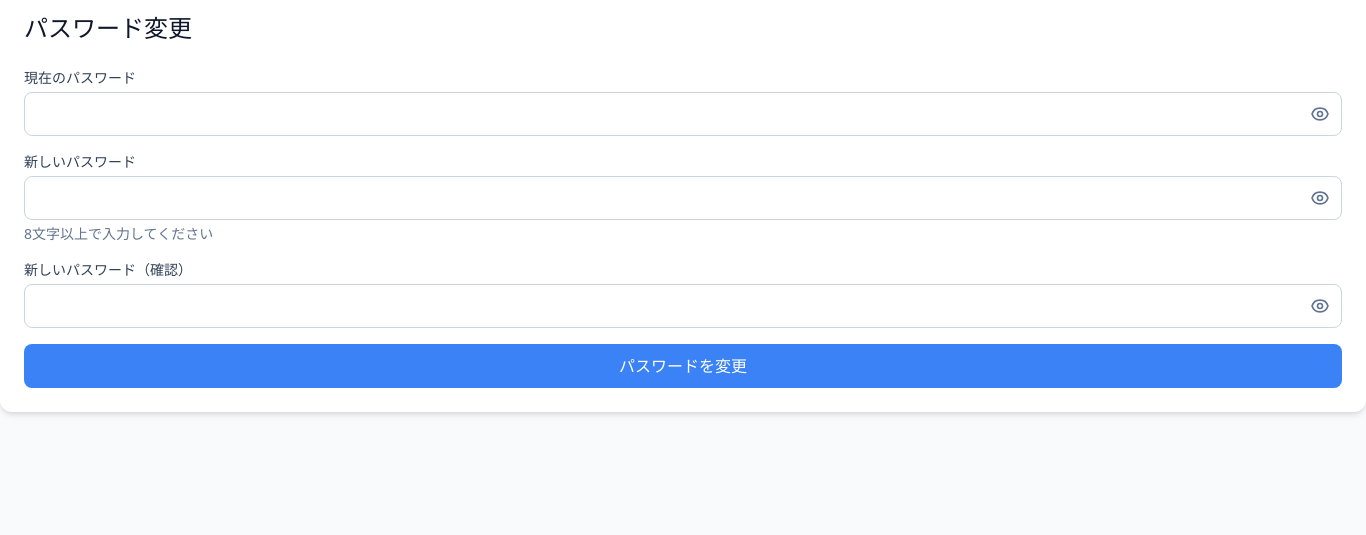
Test: PasswordChangeForm › Form Submission › should show error message on API error
Step 1. Type "wrongpass" into the password field labelled "現在のパスワード" → x=683, y=114, box 24,92 -> 1342,136
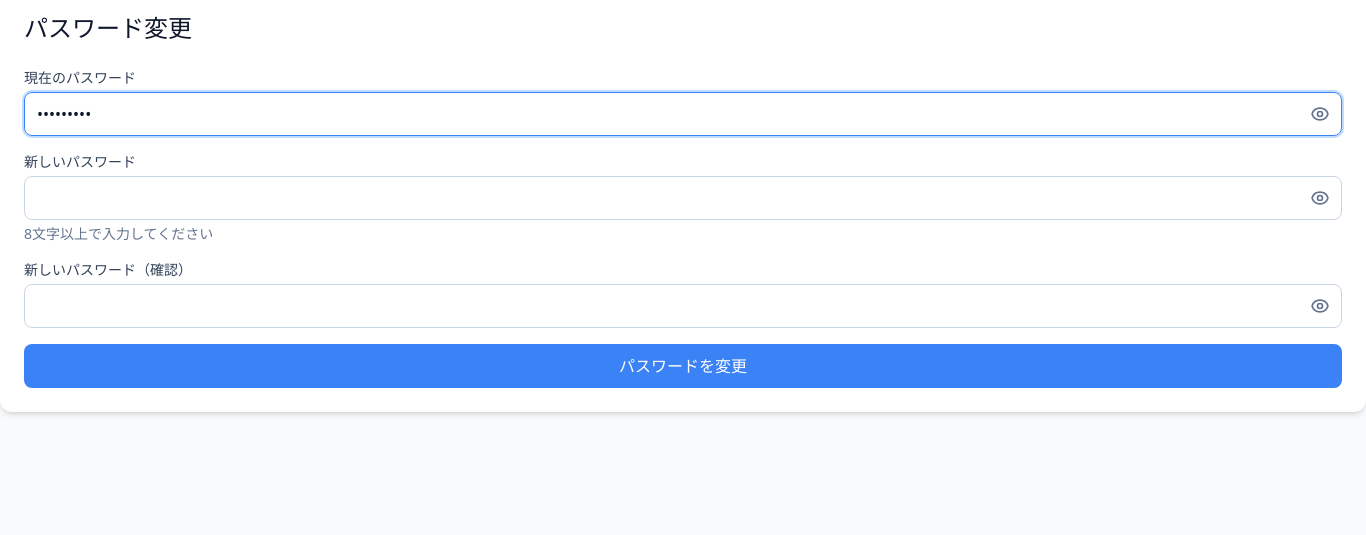
Step 2. Type "newpass123" into the password field labelled "新しいパスワード" → x=683, y=198, box 24,176 -> 1342,220
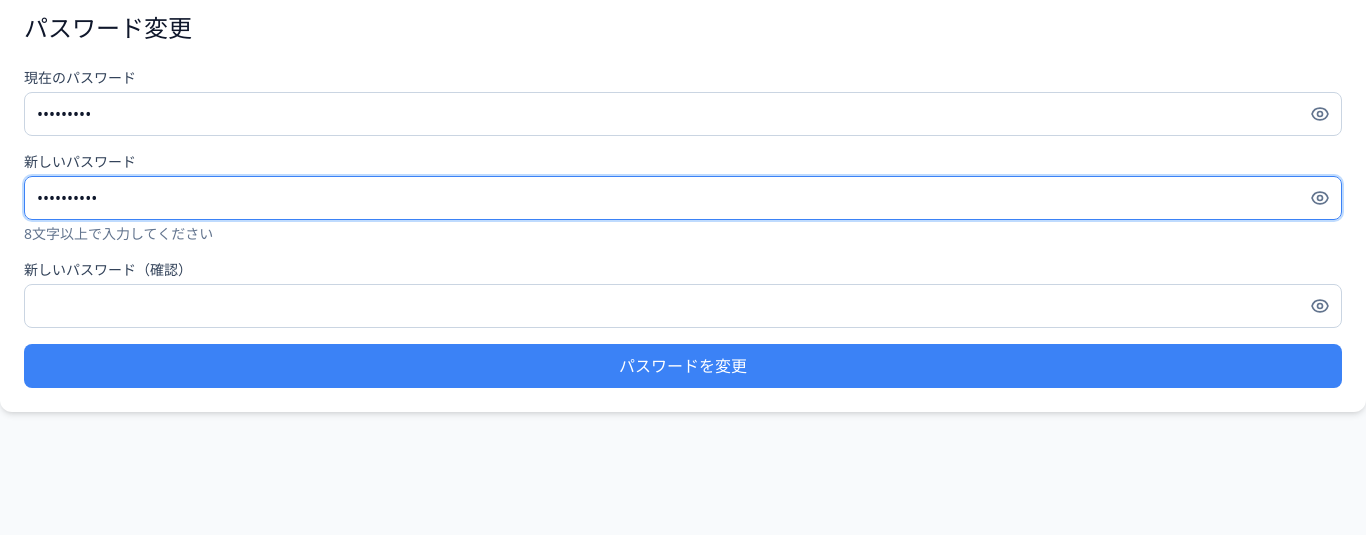
Step 3. Type "newpass123" into the password field labelled "新しいパスワード（確認）" → x=683, y=306, box 24,284 -> 1342,328
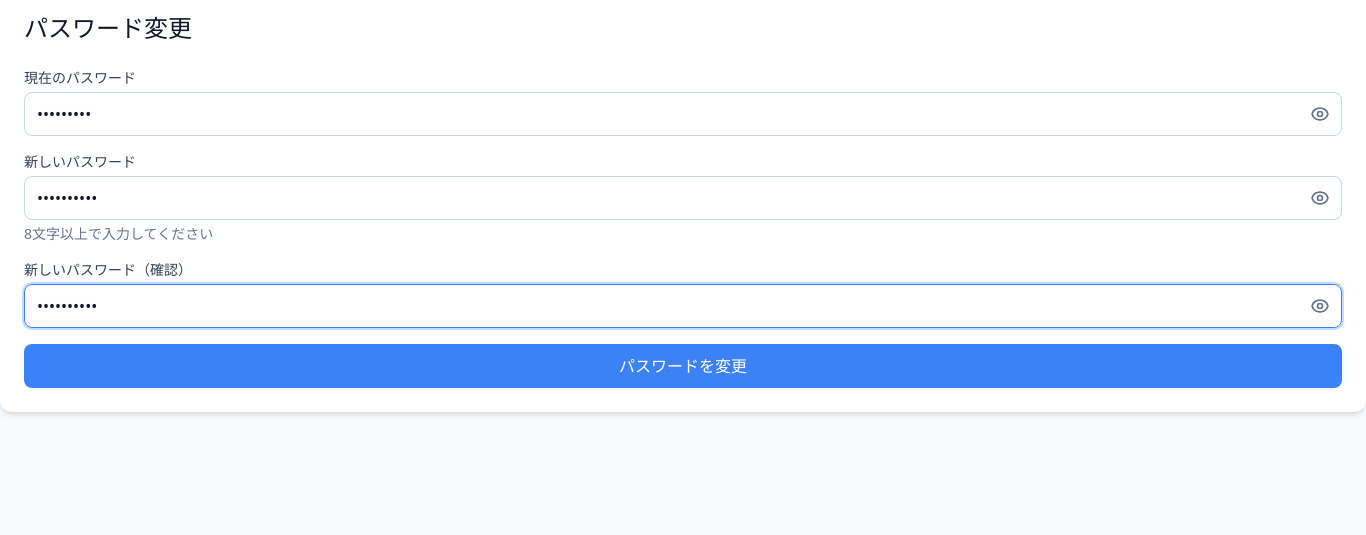
Step 4. Click the button "パスワードを変更" → x=683, y=366, box 24,344 -> 1342,388
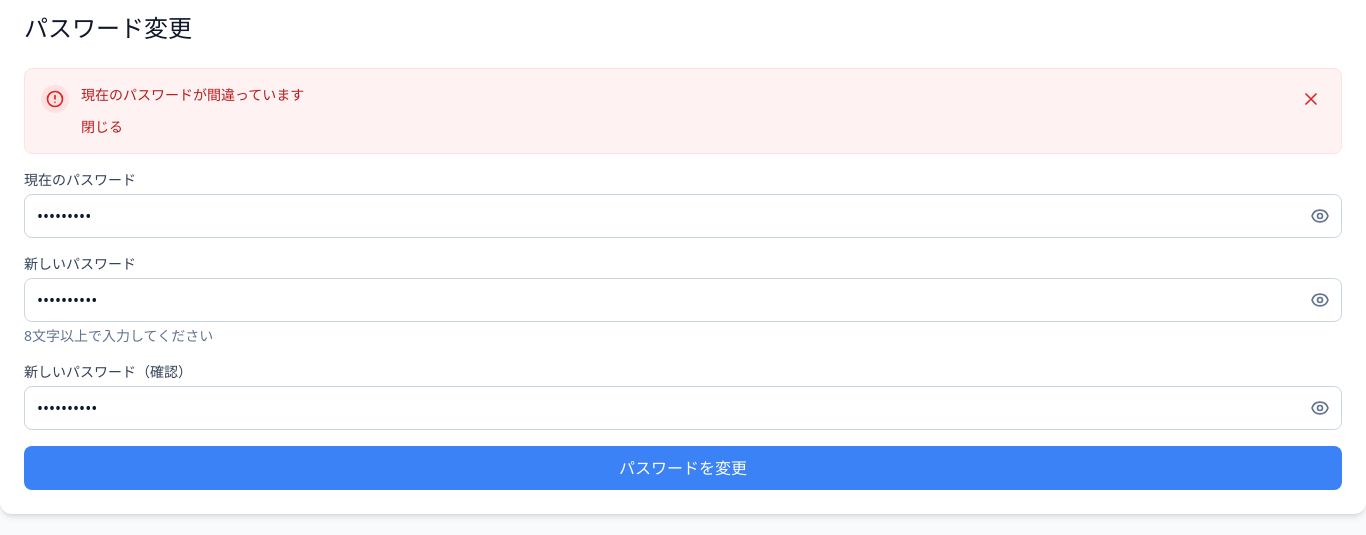
expect the message shows "現在のパスワードが間違っています": met, box 81,85 -> 304,104
